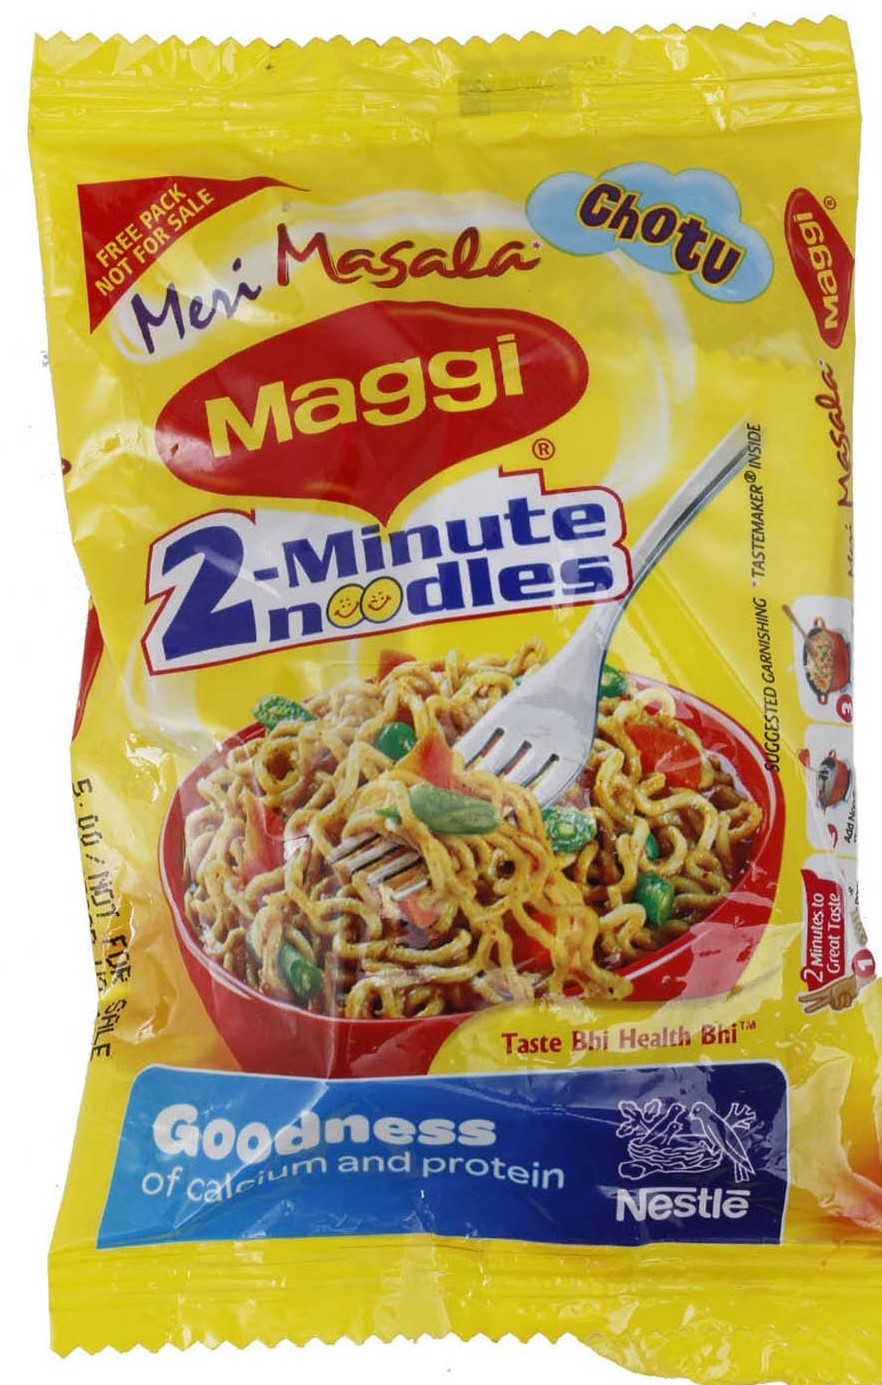maggi: (24, 26, 877, 1385)
